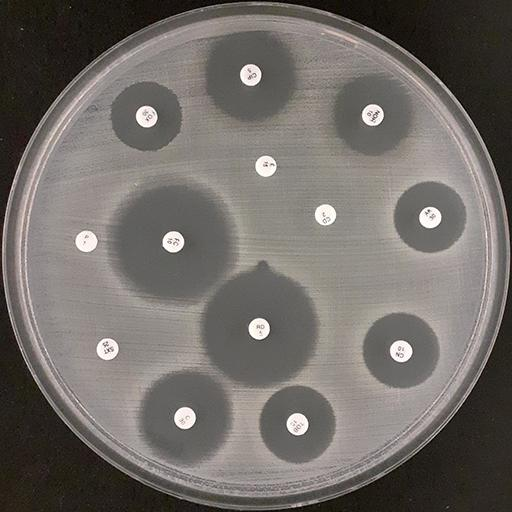disc: (389, 340, 413, 363), (419, 206, 442, 229), (286, 413, 309, 436), (173, 406, 196, 429), (75, 230, 98, 253), (240, 64, 262, 87), (248, 318, 271, 340), (96, 338, 119, 360), (162, 231, 185, 253), (136, 105, 158, 128), (362, 104, 384, 126), (255, 155, 277, 177), (314, 204, 336, 226)
